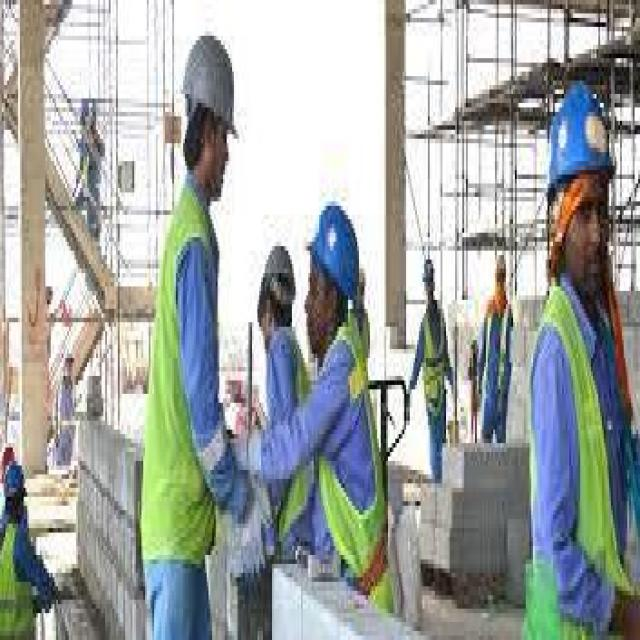Reflective-Jacket: (528, 282, 638, 631), (134, 188, 230, 573), (281, 322, 393, 568), (0, 514, 36, 635), (420, 304, 448, 408)
Safety-Helmet: (542, 67, 617, 197), (178, 23, 241, 144), (304, 192, 364, 304)
